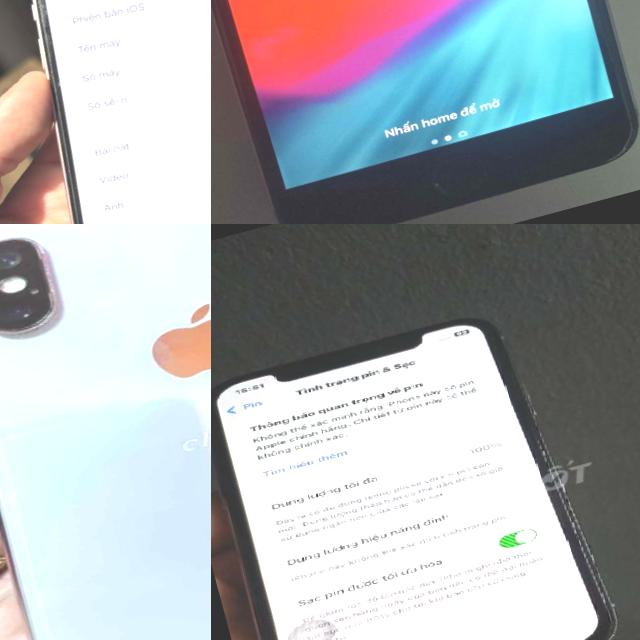scratch: (0, 224, 96, 356)
